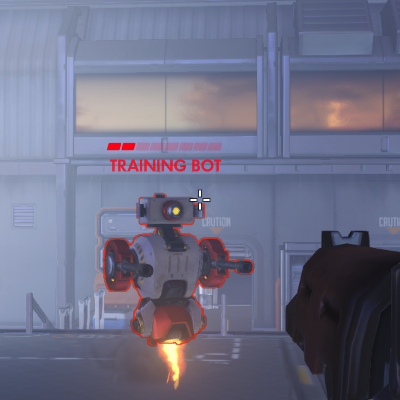hpbar: (106, 142, 222, 151)
